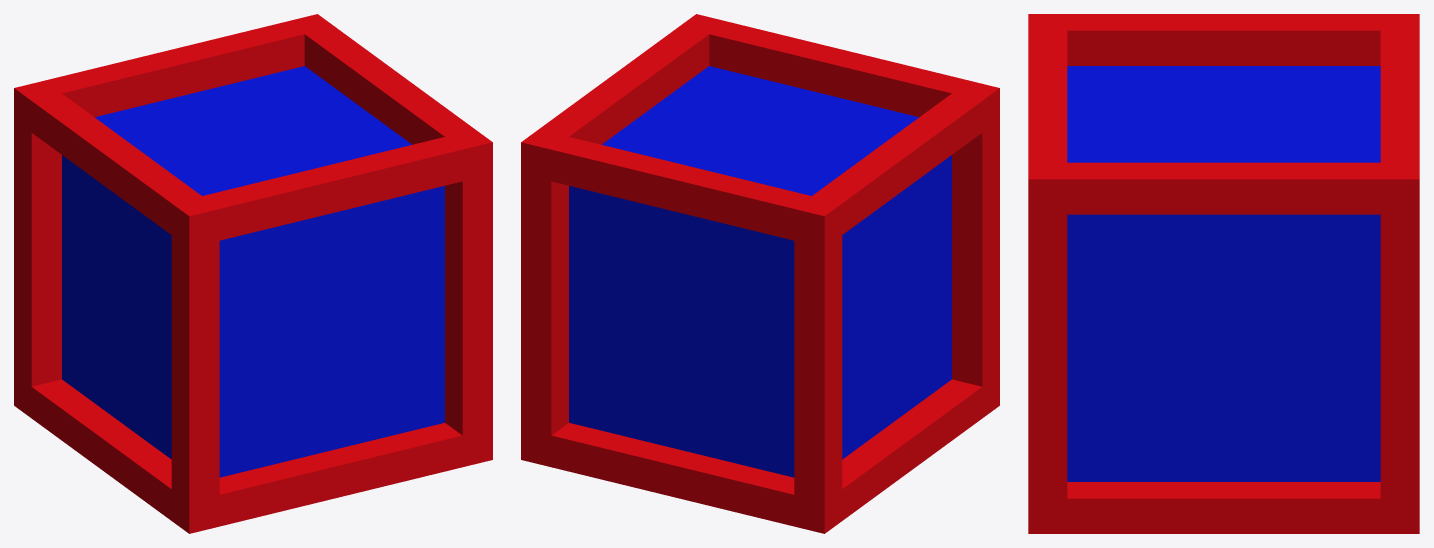
File: aalders.gltf
The picture shows the model from 3 angles, left to right: view 1: azimuth 30°, elevation 25°; view 2: azimuth 150°, elevation 25°; view 3: azimuth 270°, elevation 25°; orthographic projection. The views are drawn at different scales.
Visible parts, largest first — view 1: Frame, InnerY; view 2: Frame, InnerY; view 3: InnerY, Frame.
Boxes of the visible parts, box(x1,y1,x2,y2) form: Frame: box(14, 14, 492, 533); InnerY: box(62, 66, 444, 477); Frame: box(521, 14, 999, 533); InnerY: box(569, 66, 951, 477); InnerY: box(1067, 66, 1380, 481); Frame: box(1028, 14, 1419, 533).
Size of the model in its own units: 2 by 2 by 2.
